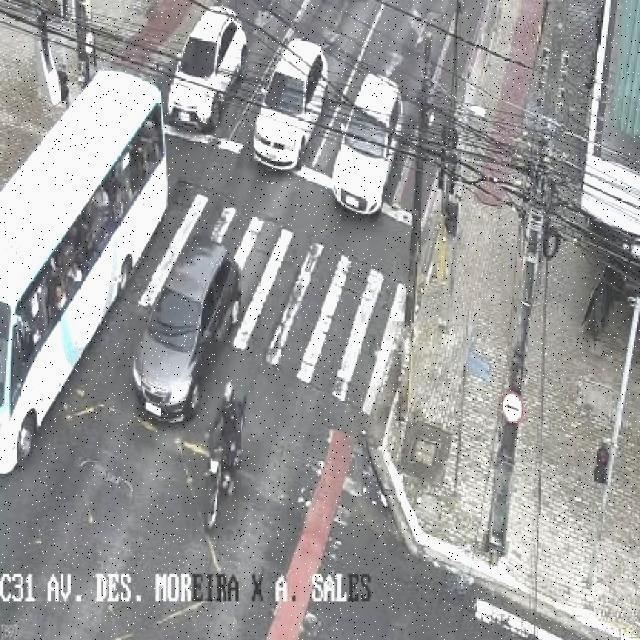Bus: (0, 72, 171, 478)
Car: (134, 242, 244, 424), (332, 75, 404, 211), (255, 39, 328, 170), (170, 6, 248, 126)
Cycle: (206, 375, 242, 528)
